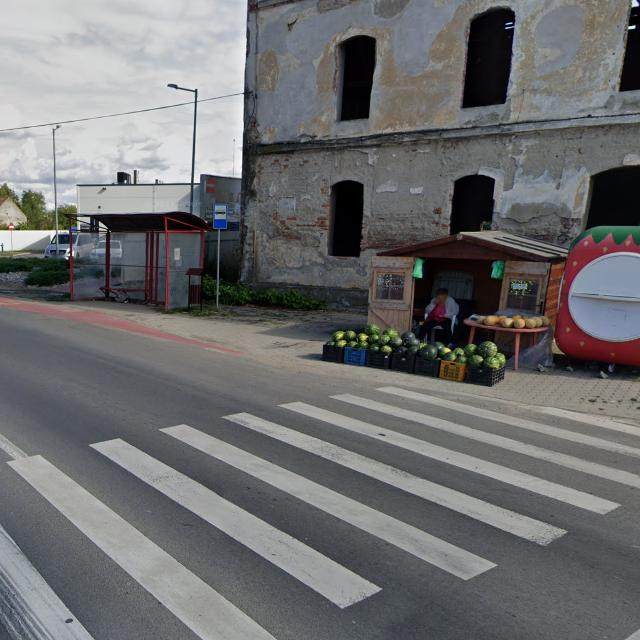info_bus_station: (212, 203, 228, 230)
